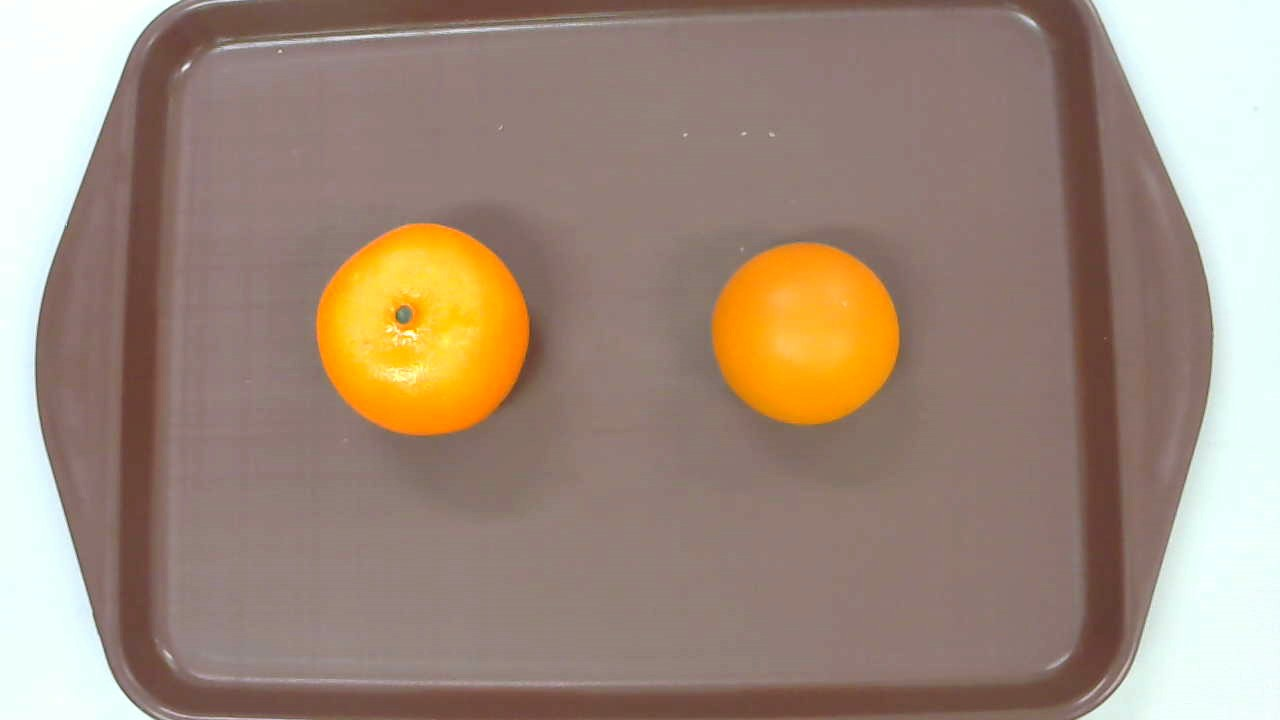bun: (710, 241, 899, 425)
orange: (316, 222, 530, 437)
